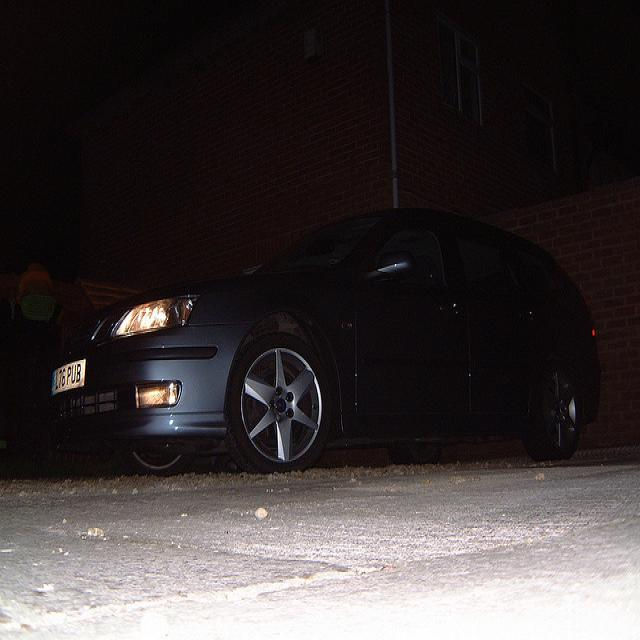Car: (53, 210, 603, 465)
